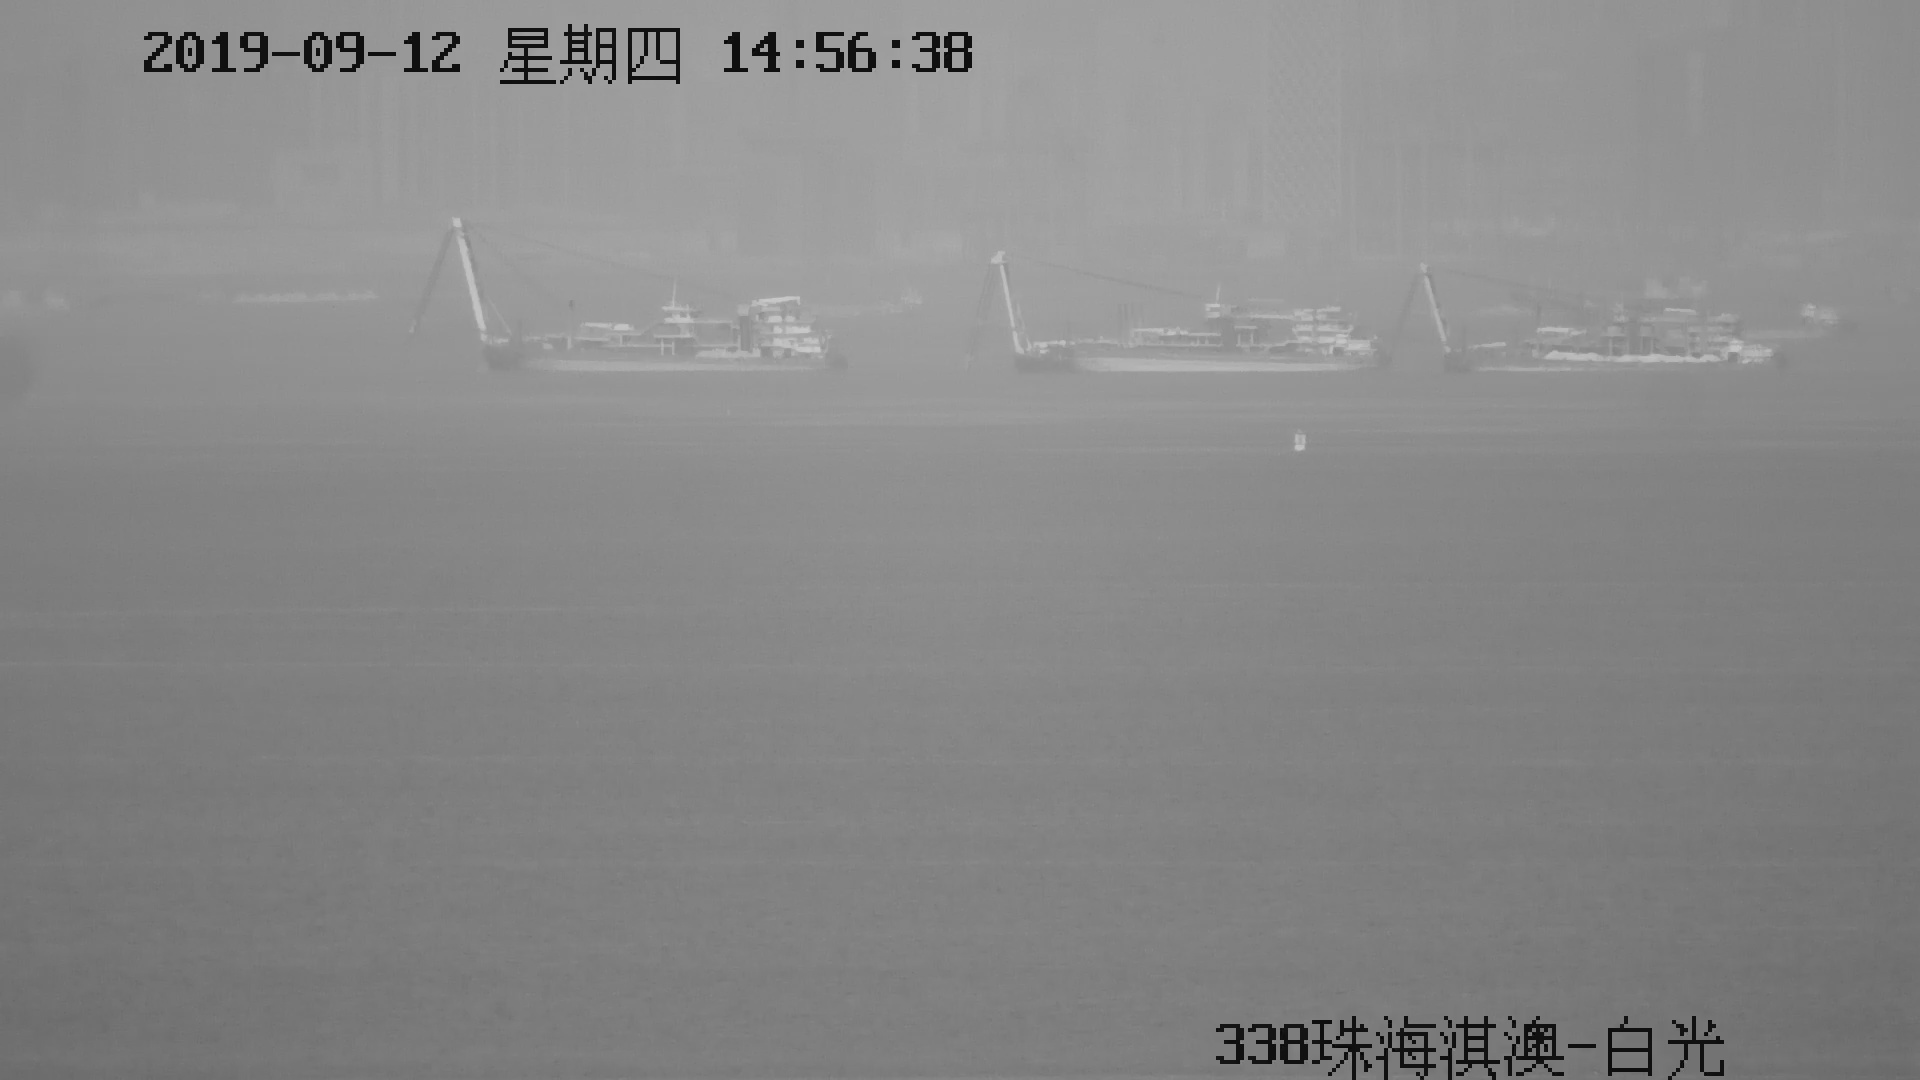ship: (444, 214, 840, 381), (992, 251, 1378, 375), (1423, 262, 1791, 377)
